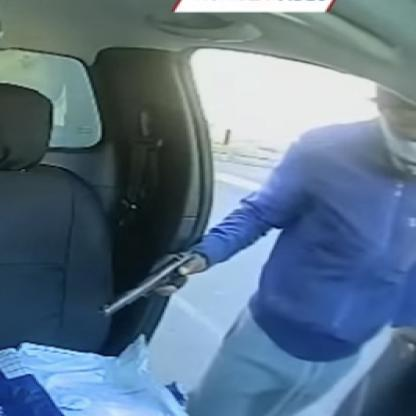weapon: (101, 252, 192, 318)
